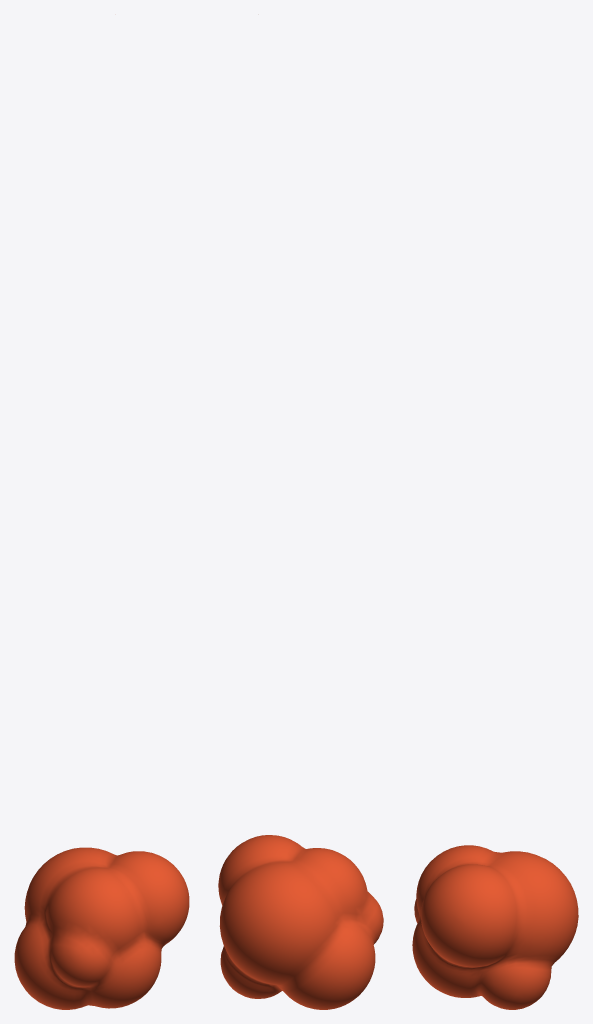
Rendered from fart4.fbx.
The picture shows the model from 3 angles, left to right: view 1: azimuth 30°, elevation 25°; view 2: azimuth 150°, elevation 25°; view 3: azimuth 270°, elevation 25°; orthographic projection. The views are drawn at different scales.
Parts seen in each view (by area): view 1: Group51654; view 2: Group51654; view 3: Group51654.
Boxes of the visible parts, left/top/right/bottom form: Group51654: left=14, top=847, right=189, bottom=1009; Group51654: left=218, top=835, right=383, bottom=1009; Group51654: left=412, top=845, right=578, bottom=1009.
Bounding box in the file's own units: 38.6 × 237 × 35.79.
Materials: 1 (1 with a texture image).
